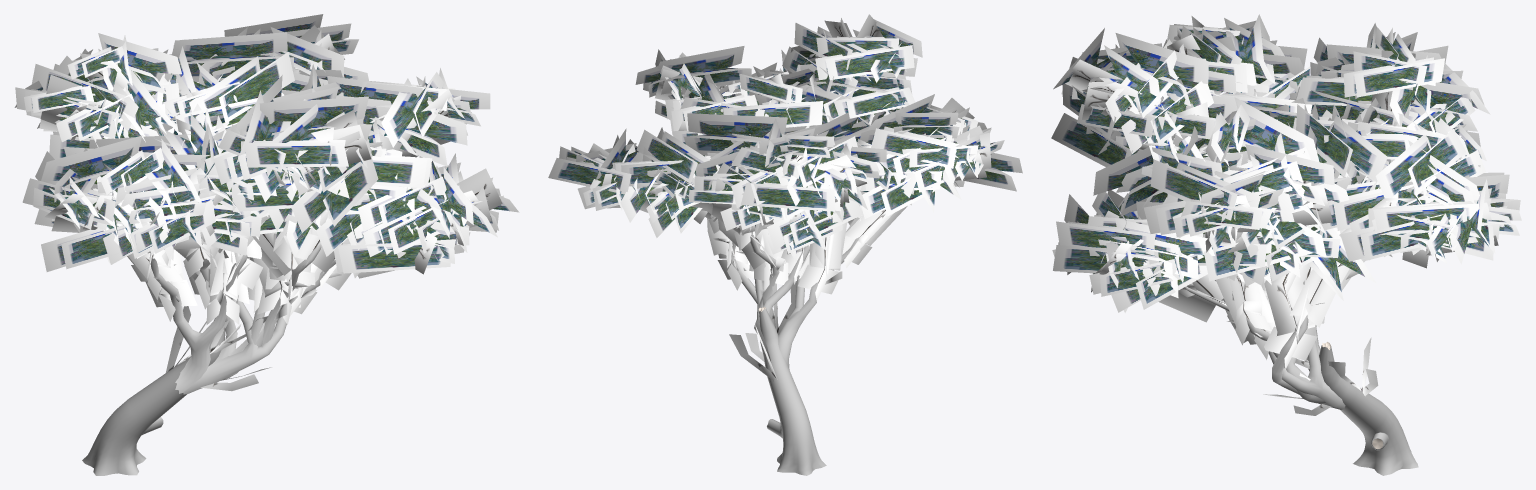
Rendered from Type_1_1.fbx.
3 renders of one model, left to right at view 1: azimuth 30°, elevation 25°; view 2: azimuth 150°, elevation 25°; view 3: azimuth 270°, elevation 25°, orthographic. The views are drawn at different scales.
Visible parts, largest first — view 1: Type_1_1; view 2: Type_1_1; view 3: Type_1_1.
Part boxes in pixels (bbox=[...]): Type_1_1: bbox=[14, 14, 519, 475]; Type_1_1: bbox=[548, 14, 1022, 475]; Type_1_1: bbox=[1051, 14, 1521, 475].
Size of the model in its own units: 17.3 by 15.72 by 16.01.
